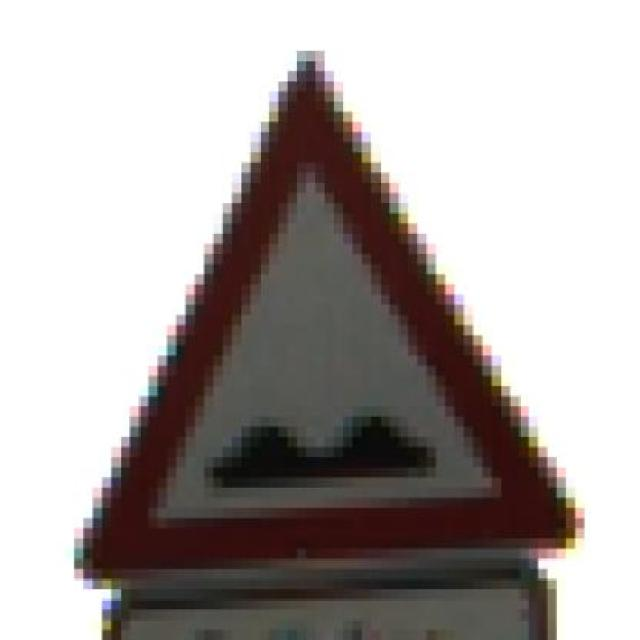Uneven Road: (37, 51, 594, 589)
